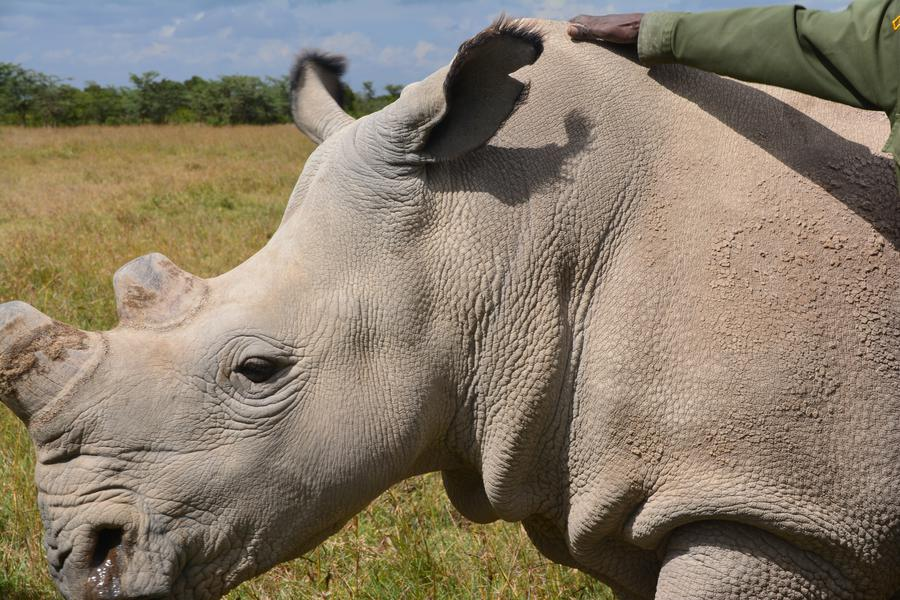rhino: (15, 53, 877, 574)
